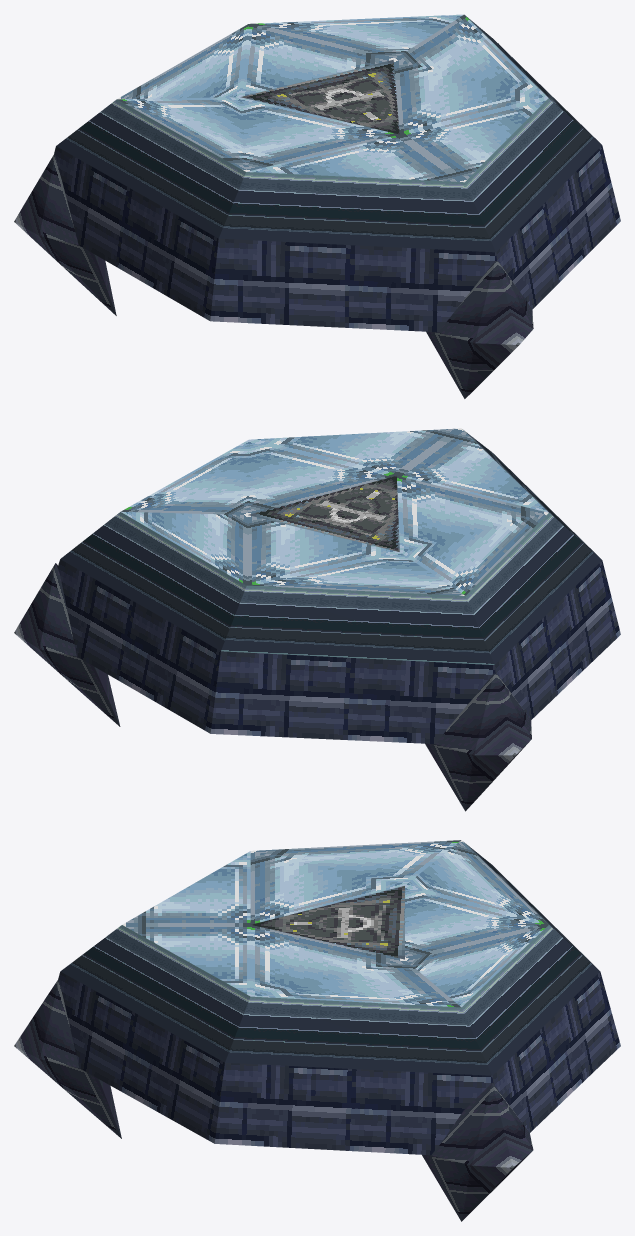
Rendered from Gun0021.obj.
3 renders of one model, top to bottom at view 1: azimuth 30°, elevation 25°; view 2: azimuth 150°, elevation 25°; view 3: azimuth 270°, elevation 25°, orthographic.
Visible parts, largest first — view 1: Room22_primary; view 2: Room22_primary; view 3: Room22_primary.
Boxes of the visible parts, left/top/right/bottom form: Room22_primary: left=14, top=14, right=620, bottom=398; Room22_primary: left=14, top=428, right=620, bottom=811; Room22_primary: left=14, top=840, right=620, bottom=1221.
Bounding box in the file's own units: 112 × 46 × 118.
Materials: 11 (11 with a texture image).
